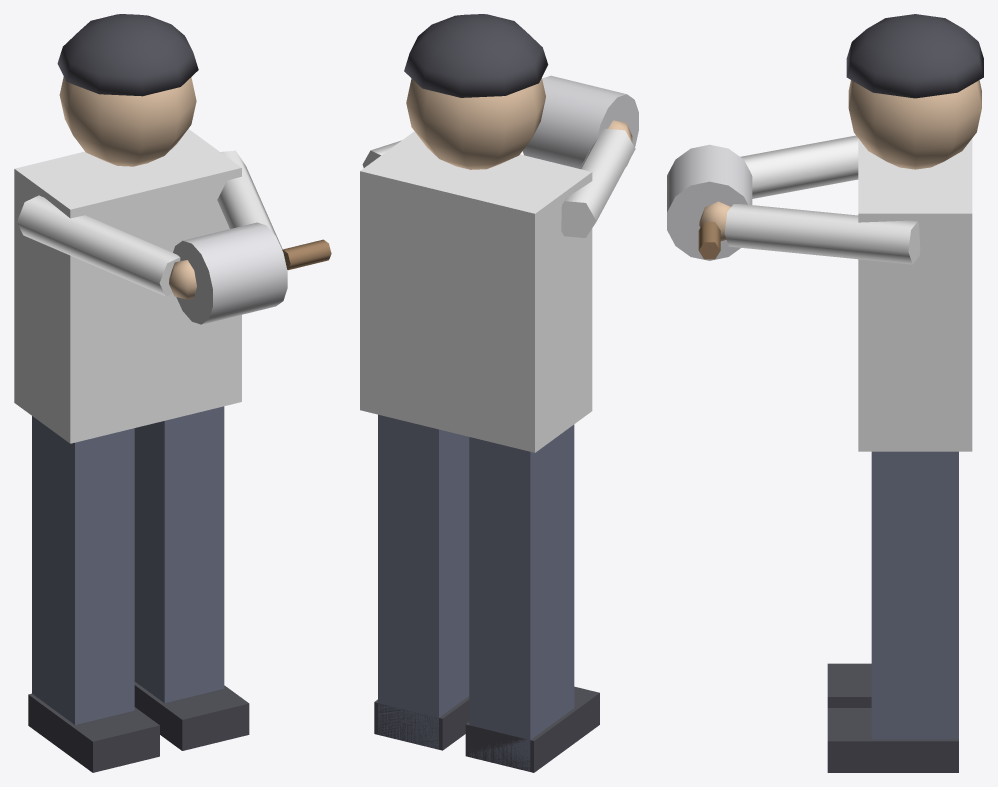
The model's file is player.glb.
3 views of the same model, side by side, from view 1: azimuth 30°, elevation 25°; view 2: azimuth 150°, elevation 25°; view 3: azimuth 270°, elevation 25° (orthographic). The views are drawn at different scales.
Parts seen in each view (by area): view 1: Player; view 2: Player; view 3: Player.
Boxes of the visible parts, x1,y1,x2,y2 form: Player: (14,14,331,772); Player: (360,14,638,772); Player: (667,14,983,772).
Bounding box in the file's own units: 0.6149 × 1.8 × 0.7244.
